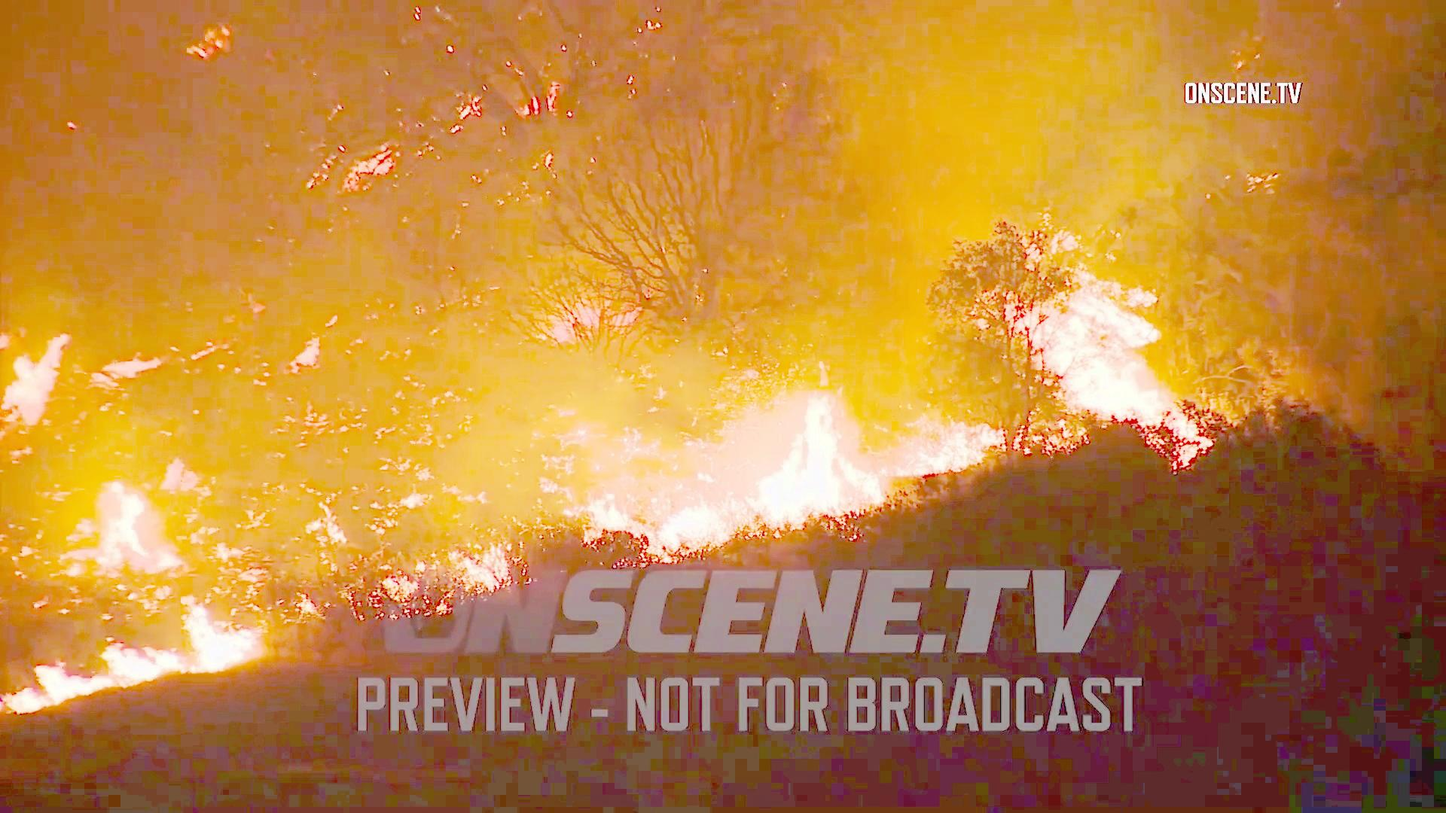fire: (983, 230, 1198, 434), (6, 612, 258, 726), (682, 394, 897, 509)
